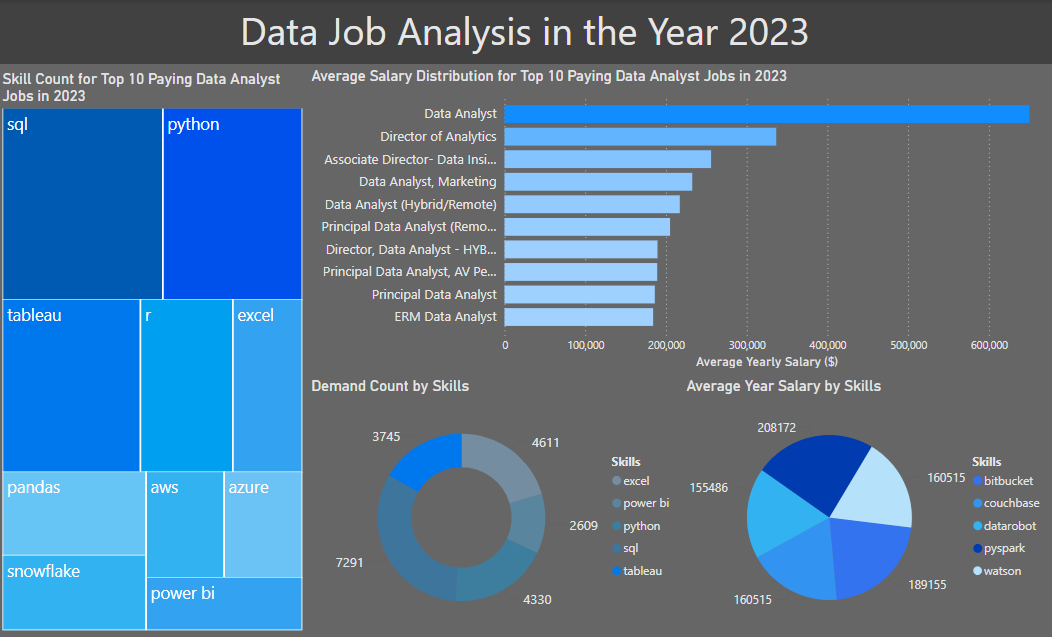

What the dashboard file says about the page in this screenshot:
{"tool":"powerbi","page":{"name":"Page 1","canvas":[1280,720],"ordinal":0},"visuals":[{"type":"clusteredBarChart","title":"Average Salary Distribution for Top 10 Paying Data Analyst Jobs in 2023","fields":{"Y":["Sum(1_top_paying_jobs.salary_year_avg)"],"Category":["1_top_paying_jobs.job_title"]},"box":[363.7,75.5,837.4,343.2],"z":0},{"type":"treemap","title":"Skill Count for Top 10 Paying Data Analyst Jobs in 2023","fields":{"Details":["2_top_paying_job_skills.skills"],"Values":["CountNonNull(2_top_paying_job_skills.company_name)"]},"box":[16.6,78.1,347,635.1],"z":1000},{"type":"donutChart","title":"Demand Count by Skills","fields":{"Y":["Sum(3_top_demanded_skills.demand_count)"],"Series":["3_top_demanded_skills.skills"]},"box":[363.2,424.3,421.3,295.3],"z":2000},{"type":"pieChart","title":"Average Year Salary by Skills","fields":{"Y":["Sum(4_top_paying_skills (2).avg_salary)"],"Series":["4_top_paying_skills (2).skills"]},"box":[784.5,424.3,416.2,295.3],"z":3000},{"type":"textbox","box":[16.6,0,1184.5,71.7],"z":4000}]}

Visuals, with their boxes on the page's 1280x720 design canvas (x1, y1, x2, y2). These are canvas units, not pixel positions in the 1052x637 screenshot, which may show the page scaled, cropped or inside an application window:
"Average Salary Distribution for Top 10 Paying Data Analyst Jobs in 2023" clusteredBarChart: bbox=(364, 76, 1201, 419)
"Skill Count for Top 10 Paying Data Analyst Jobs in 2023" treemap: bbox=(17, 78, 364, 713)
"Demand Count by Skills" donutChart: bbox=(363, 424, 784, 720)
"Average Year Salary by Skills" pieChart: bbox=(784, 424, 1201, 720)
textbox: bbox=(17, 0, 1201, 72)
